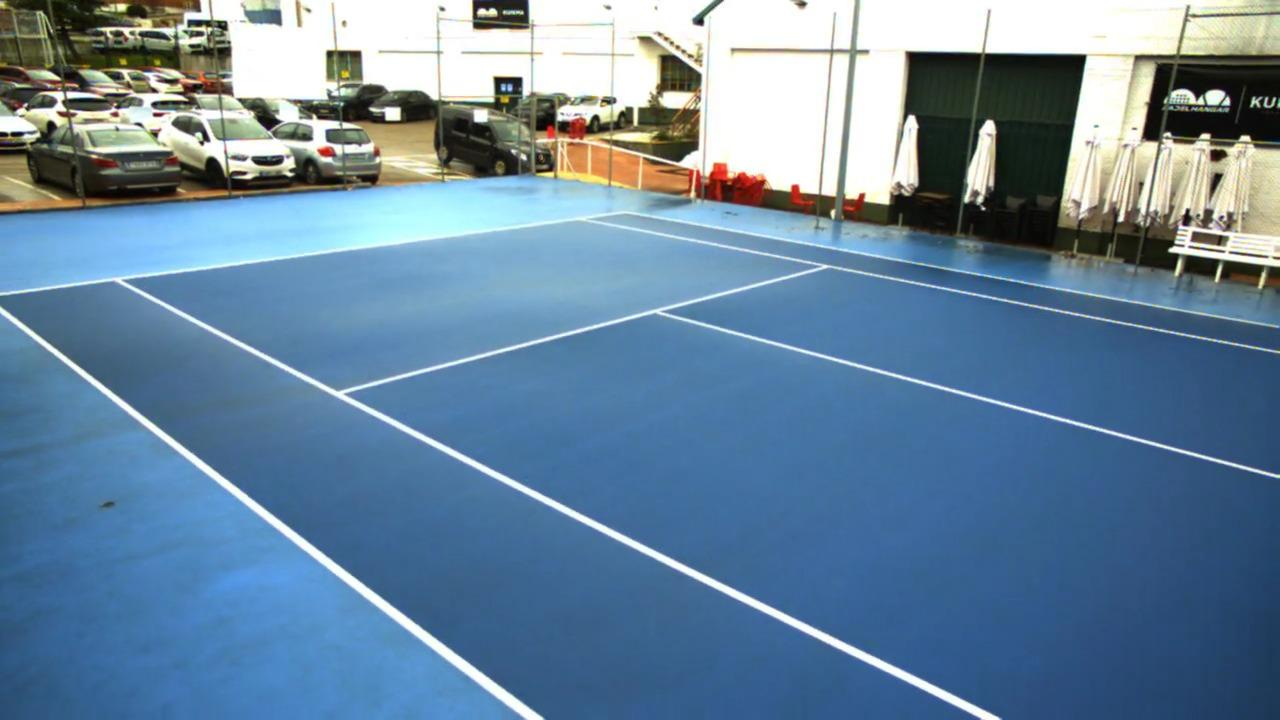cancha_tenis: (116, 216, 1280, 720)
point_f1: (106, 268, 134, 295)
point_f2: (570, 207, 598, 233)
point_i1: (323, 377, 363, 411)
point_i2: (811, 254, 839, 279)
point_ic1: (645, 297, 676, 327)
